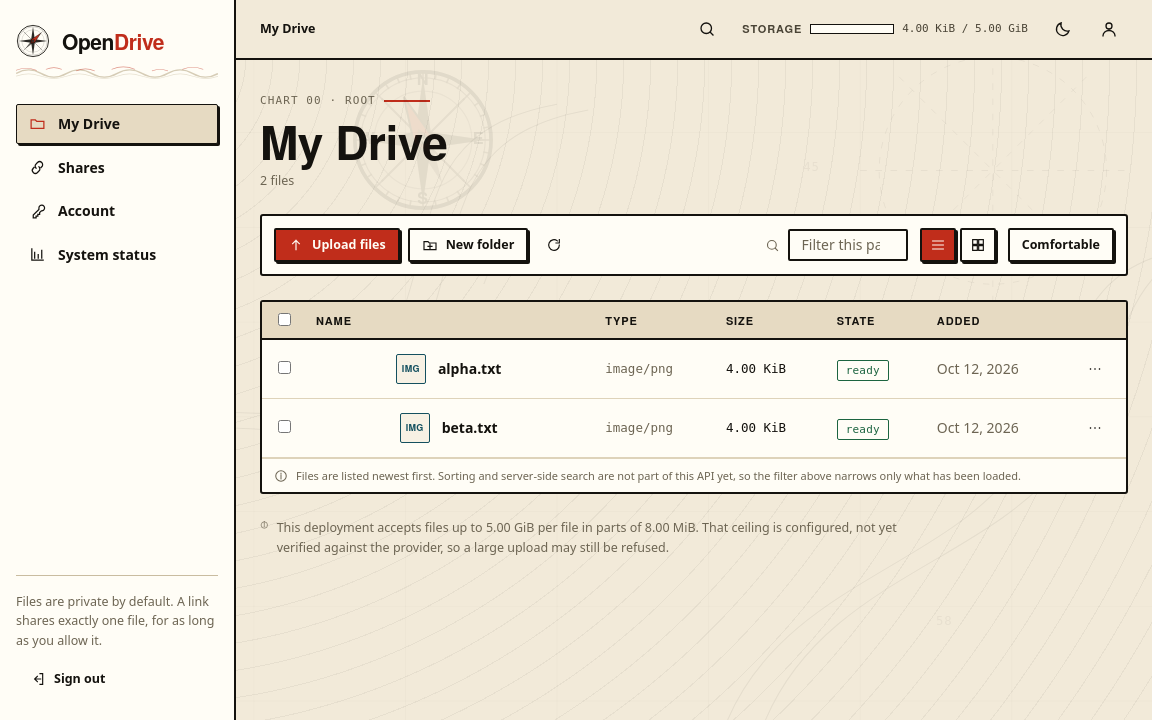
it: multi-select and bulk actions › selects a single row from its checkbox and clears the selection on request
Click the checkbox named "Select alpha.txt": [284, 368] box [278,361,291,374]
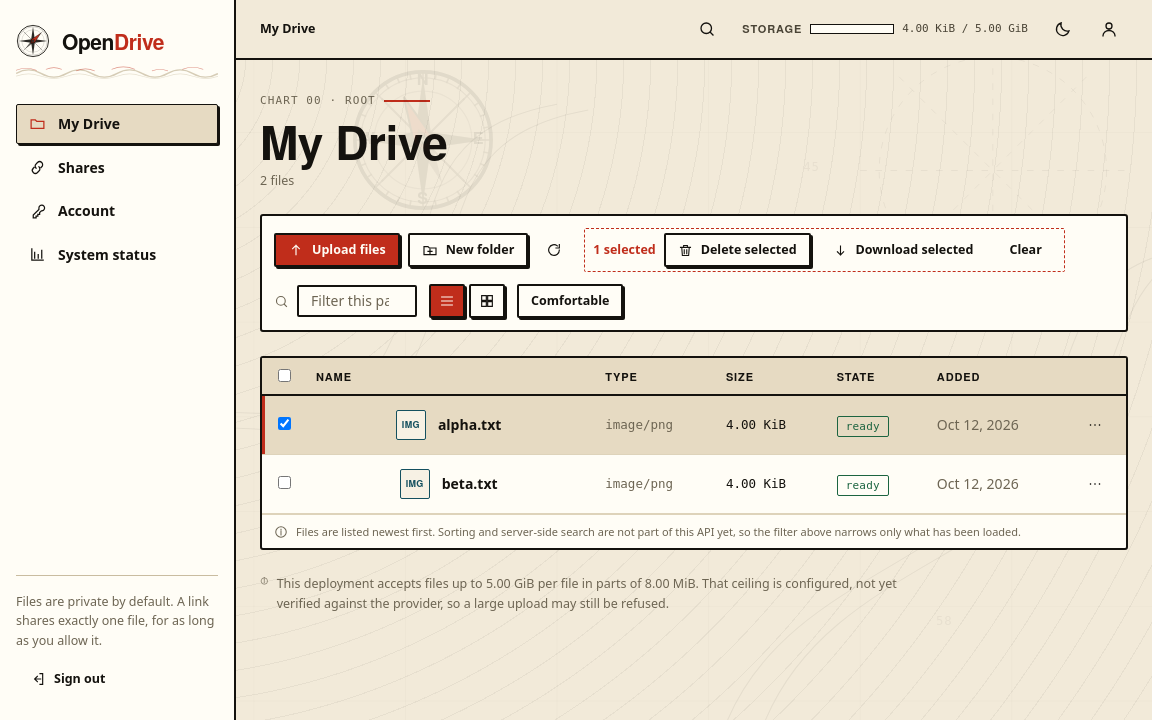
Expected: the text "1 selected" is shown, [593,240,656,260]
Click the button "Clear": [1026, 250] box [995,233,1056,267]
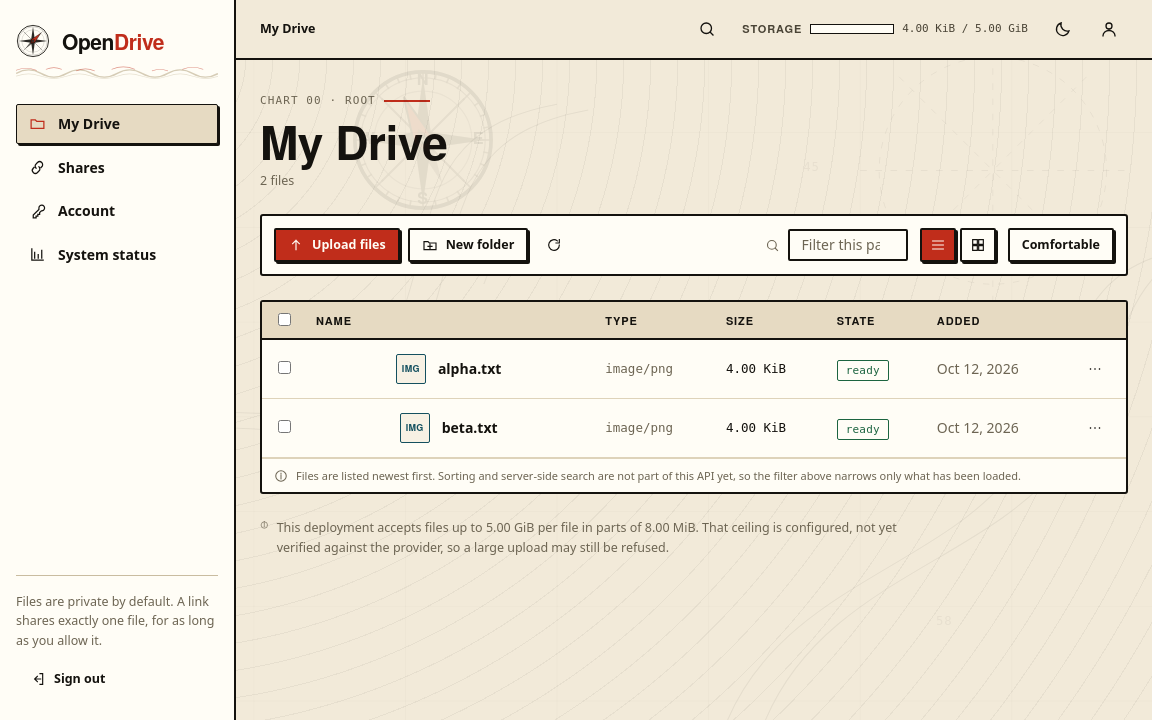
Expected: the text "1 selected" is gone
